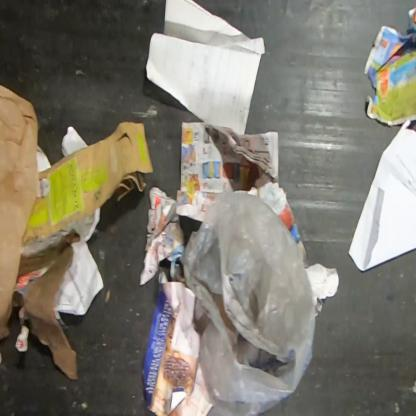cardboard: (24, 121, 154, 246), (16, 228, 81, 380)
soft_plastic: (179, 190, 316, 416), (0, 84, 39, 331)
